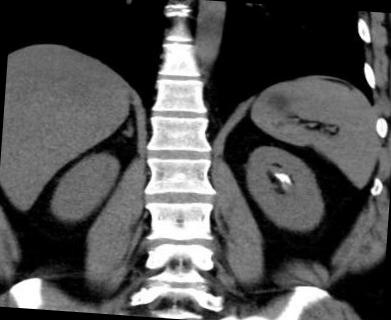Tas_Var: (273, 171, 292, 186)
